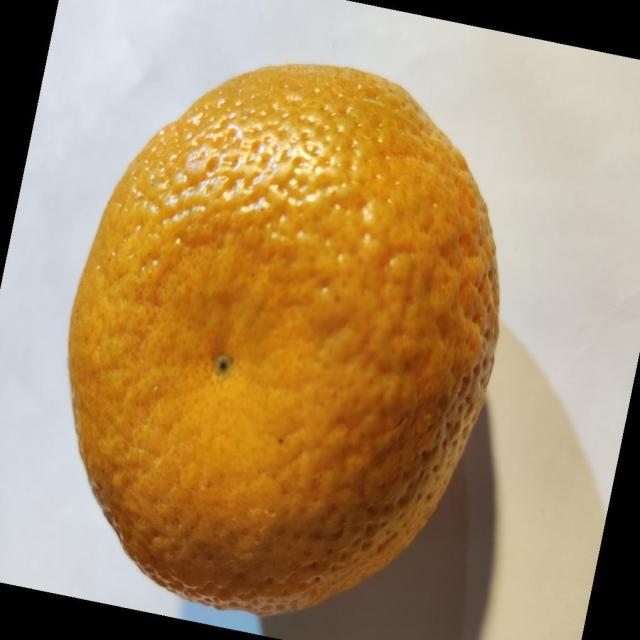fresh orange: (67, 62, 500, 618)
